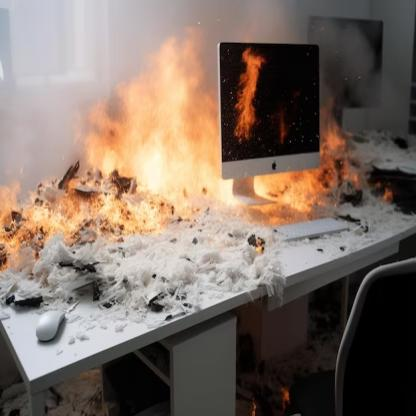fire: (0, 32, 355, 266), (237, 46, 268, 132)
smoke: (0, 0, 416, 182)
